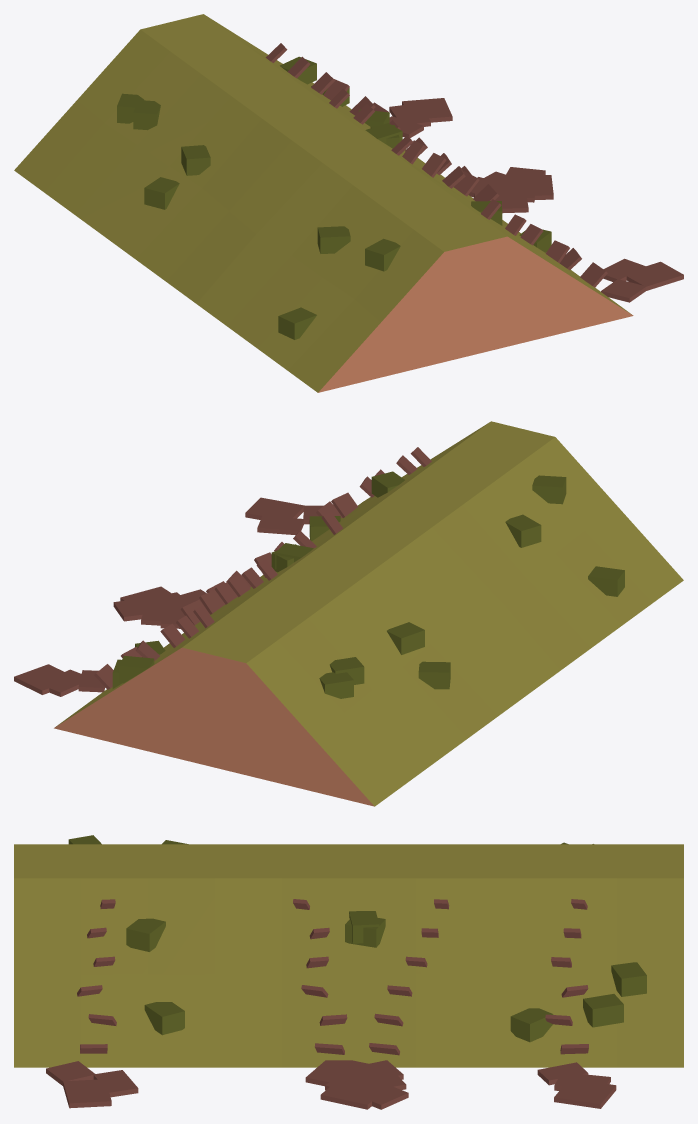
The model's file is SM_TaludDeposito_v2_Erosionado_LOD0.fbx.
3 views of the same model, one above another, from view 1: azimuth 30°, elevation 25°; view 2: azimuth 150°, elevation 25°; view 3: azimuth 270°, elevation 25° (orthographic). The views are drawn at different scales.
Visible parts, largest first — view 1: SM_bloques.talud_deposito_v2_LOD0; view 2: SM_bloques.talud_deposito_v2_LOD0; view 3: SM_bloques.talud_deposito_v2_LOD0.
Part boxes in pixels (box(x1,y1,x2,y2)): SM_bloques.talud_deposito_v2_LOD0: box(14, 14, 683, 392); SM_bloques.talud_deposito_v2_LOD0: box(14, 421, 683, 806); SM_bloques.talud_deposito_v2_LOD0: box(14, 835, 683, 1109).
Size of the model in its own units: 7.49 by 2.04 by 10.
